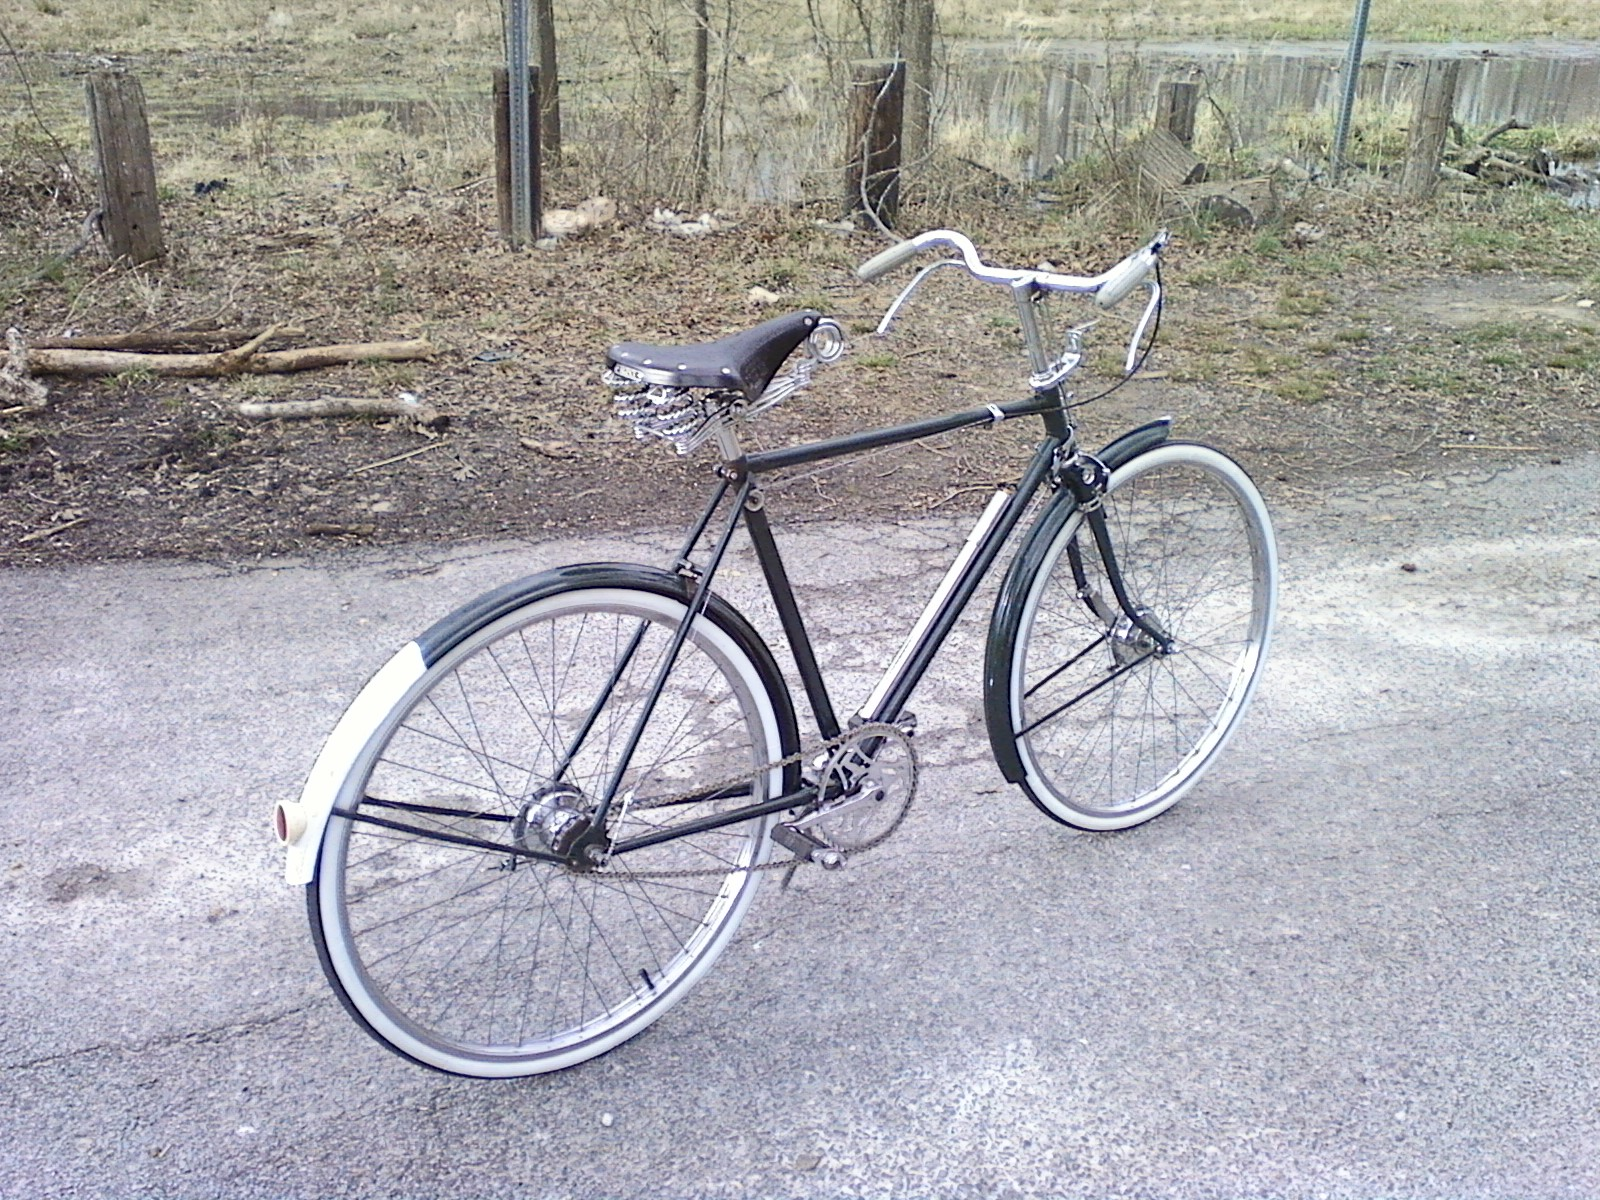cycle: (229, 216, 1388, 1108)
